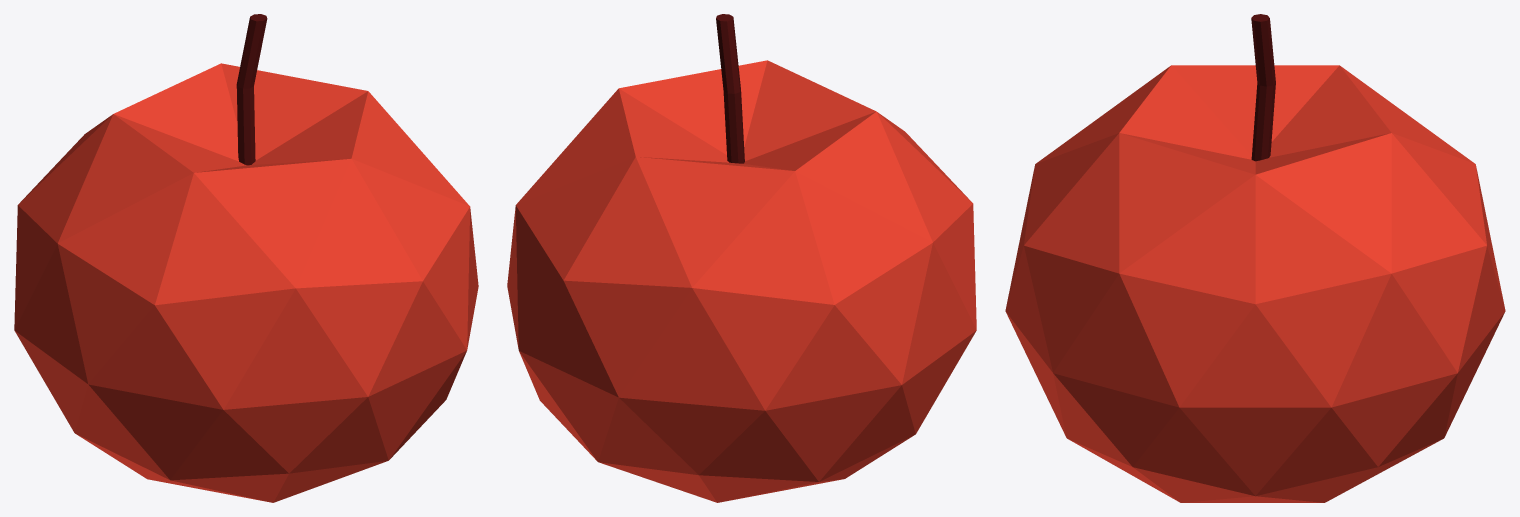
The model's file is Apple.fbx.
3 views of the same model, side by side, from view 1: azimuth 30°, elevation 25°; view 2: azimuth 150°, elevation 25°; view 3: azimuth 270°, elevation 25° (orthographic). The views are drawn at different scales.
Visible parts, largest first — view 1: Icosphere, Cylinder; view 2: Icosphere, Cylinder; view 3: Icosphere, Cylinder.
Boxes of the visible parts, x1,y1,x2,y2 form: Icosphere: [14, 63, 478, 502]; Cylinder: [236, 14, 267, 165]; Icosphere: [507, 60, 976, 502]; Cylinder: [716, 14, 744, 163]; Icosphere: [1005, 65, 1505, 502]; Cylinder: [1251, 14, 1275, 161].
Bounding box in the file's own units: 202 × 213 × 214.
